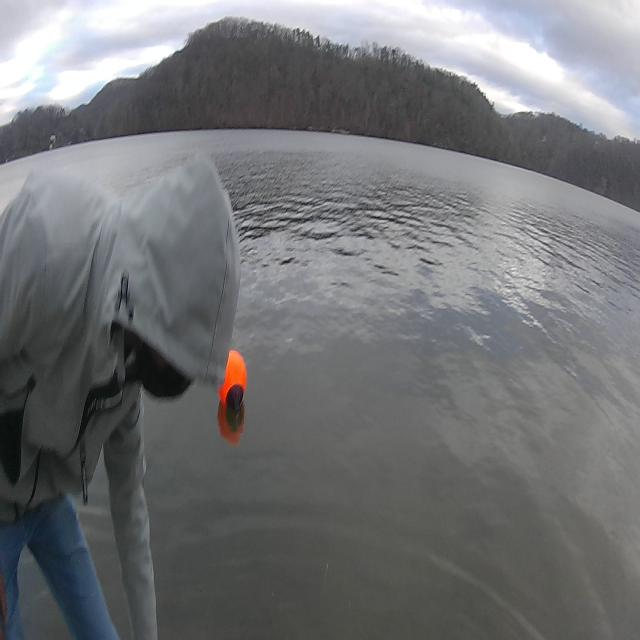Buoy: (213, 337, 252, 426)
